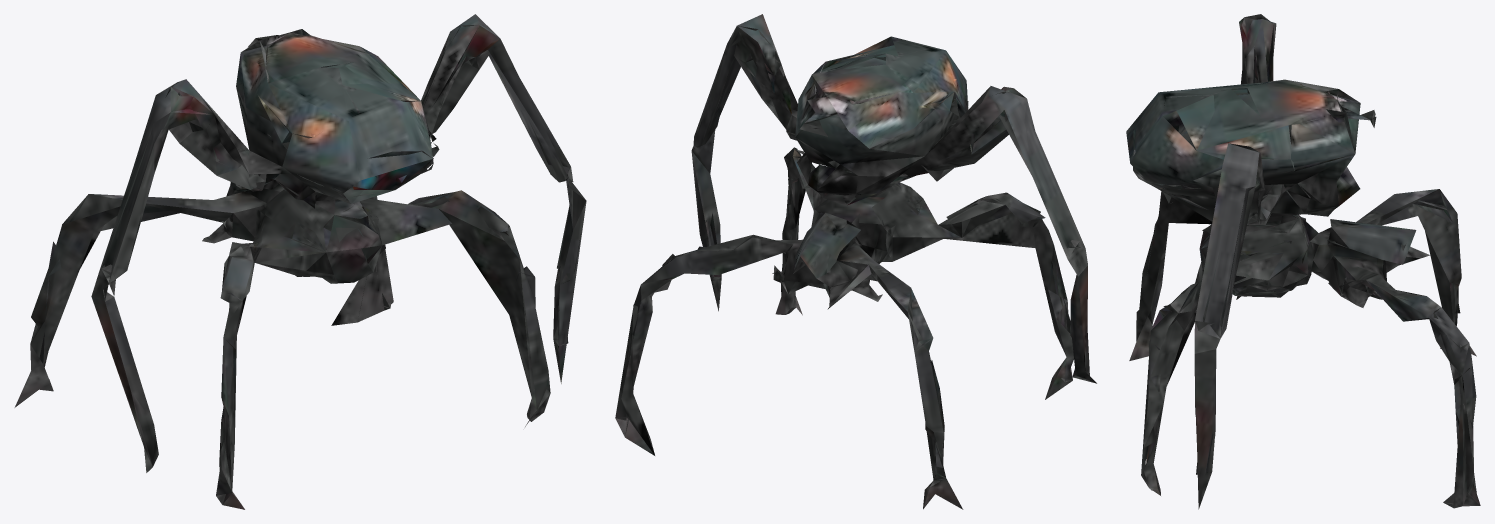
File: enemy_walker_580279005_lod0.glb
3 views of the same model, side by side, from view 1: azimuth 30°, elevation 25°; view 2: azimuth 150°, elevation 25°; view 3: azimuth 270°, elevation 25° (orthographic). The views are drawn at different scales.
Bounding box in the file's own units: 6.94 × 5.71 × 4.99.
Materials: 1 (1 with a texture image).
